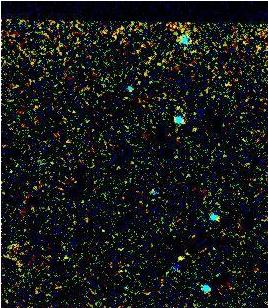star: (165, 242, 195, 272)
